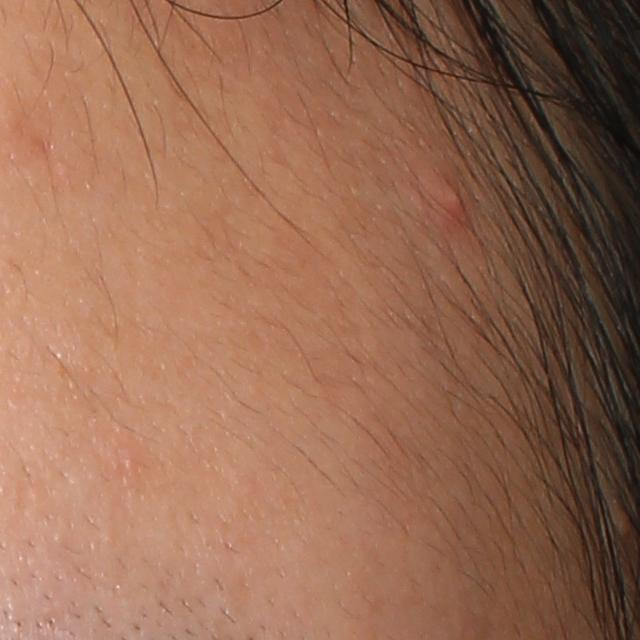papule: (437, 177, 473, 223)
